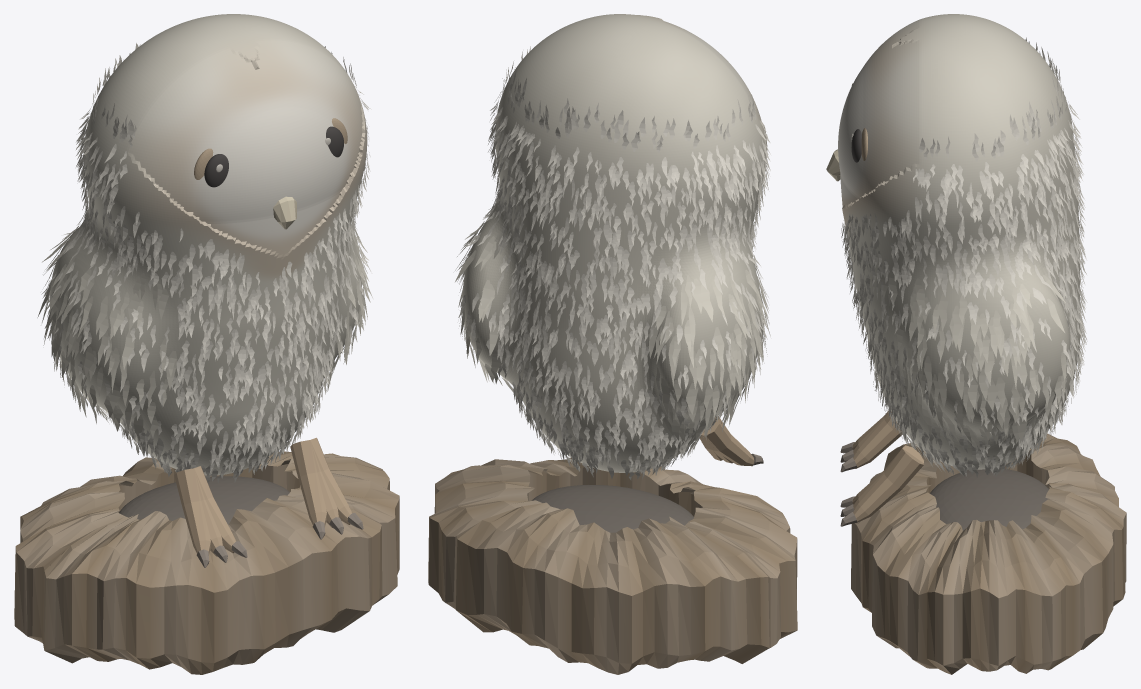
File: run96_anatomy_directional_down_NOT_APPROVED.glb
3 renders of one model, left to right at view 1: azimuth 30°, elevation 25°; view 2: azimuth 150°, elevation 25°; view 3: azimuth 270°, elevation 25°, orthographic. The views are drawn at different scales.
Visible parts, largest first — view 1: continuous_juvenile_sculpt, irregular_senescent_hollow_lip, directional_body_2500_vellus_fibres, directional_wing_264_vellus_fibres, interior_hollow_shadow, toe_1_-1, toe_-1_-1, toe_-1_1, toe_1_1, black_iris_-1, ivory_hook_bill, toe_1_0 (+1 smaller); view 2: continuous_juvenile_sculpt, irregular_senescent_hollow_lip, directional_body_2500_vellus_fibres, directional_wing_264_vellus_fibres, interior_hollow_shadow, toe_-1_-1; view 3: continuous_juvenile_sculpt, irregular_senescent_hollow_lip, directional_body_2500_vellus_fibres, directional_wing_264_vellus_fibres, interior_hollow_shadow, toe_1_1, toe_-1_1.
Part boxes in pixels (box(x1,y1,x2,y2)): continuous_juvenile_sculpt: box(49, 14, 367, 475); irregular_senescent_hollow_lip: box(14, 451, 399, 674); directional_body_2500_vellus_fibres: box(41, 43, 371, 483); directional_wing_264_vellus_fibres: box(37, 220, 372, 440); interior_hollow_shadow: box(119, 476, 289, 524); toe_1_-1: box(290, 440, 326, 527); toe_-1_-1: box(174, 468, 210, 555); toe_-1_1: box(185, 466, 235, 553); toe_1_1: box(302, 437, 351, 524); black_iris_-1: box(204, 154, 228, 187); ivory_hook_bill: box(273, 196, 296, 229); toe_1_0: box(301, 439, 339, 527); continuous_juvenile_sculpt: box(462, 14, 767, 472); irregular_senescent_hollow_lip: box(428, 457, 797, 674); directional_body_2500_vellus_fibres: box(458, 46, 770, 480); directional_wing_264_vellus_fibres: box(455, 222, 770, 441); interior_hollow_shadow: box(532, 485, 693, 532); toe_-1_-1: box(701, 416, 754, 466); continuous_juvenile_sculpt: box(838, 14, 1080, 469); irregular_senescent_hollow_lip: box(851, 433, 1126, 674); directional_body_2500_vellus_fibres: box(841, 37, 1087, 477); directional_wing_264_vellus_fibres: box(881, 254, 1082, 452); interior_hollow_shadow: box(930, 469, 1049, 530); toe_1_1: box(853, 448, 923, 523); toe_-1_1: box(853, 411, 902, 468).
Size of the model in its own units: 2.07 by 3.37 by 1.56.
